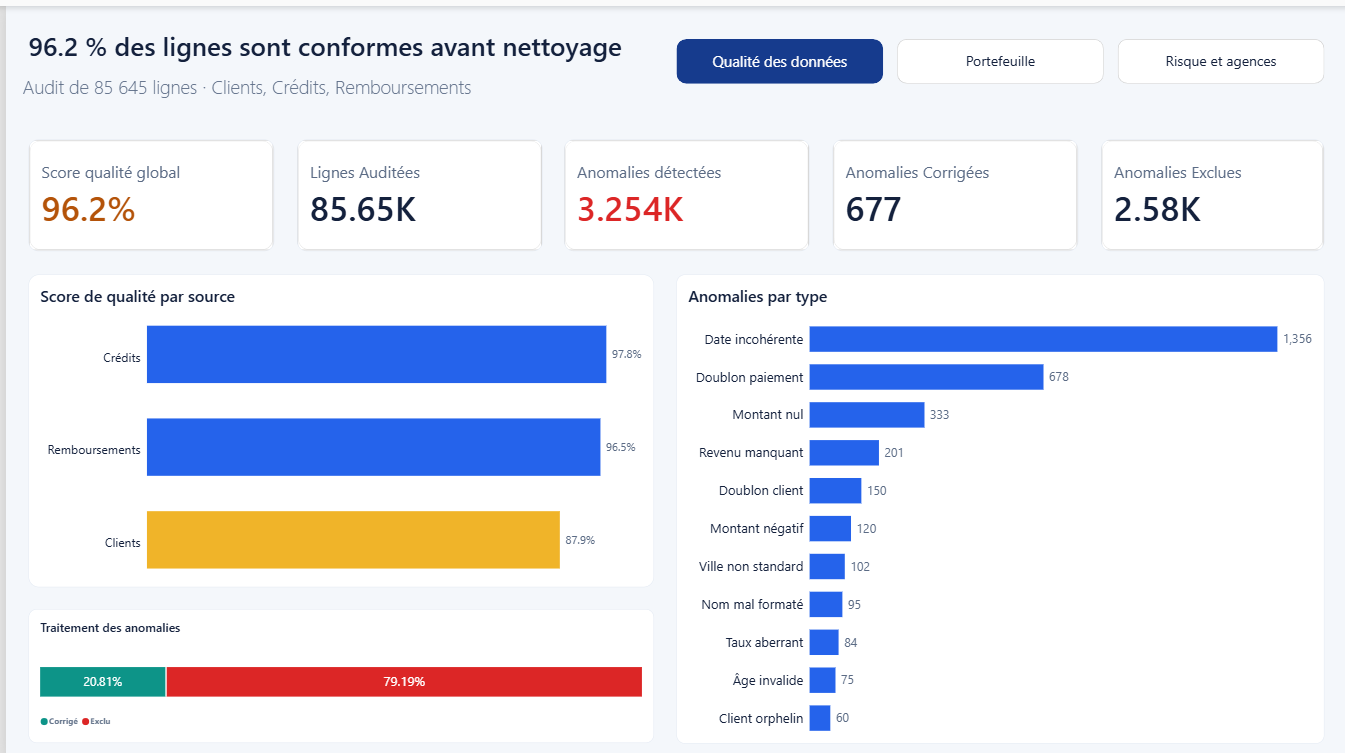

The dashboard page shown, as its layout file describes it:
{"tool":"powerbi","page":{"name":"Qualité des données","canvas":[1920,1080],"ordinal":0},"visuals":[{"type":"textbox","box":[32,32,864,64],"z":0},{"type":"textbox","box":[24,96,840,48],"z":1000},{"type":"cardVisual","fields":{"Data":["_Mesures.Score Qualité %"]},"box":[32,192,352,160],"z":2000},{"type":"cardVisual","fields":{"Data":["_Mesures.Lignes Auditées"]},"box":[416,192,352,160],"z":3000},{"type":"cardVisual","fields":{"Data":["_Mesures.Nb Anomalies"]},"box":[800,192,352,160],"z":4000},{"type":"cardVisual","fields":{"Data":["_Mesures.Anomalies Corrigées"]},"box":[1184,192,352,160],"z":5000},{"type":"cardVisual","fields":{"Data":["_Mesures.Anomalies Exclues"]},"box":[1568,192,320,160],"z":6000},{"type":"barChart","title":"Score de qualité par source","fields":{"Category":["Audit_Qualité.Source"],"Y":["_Mesures.Score Qualité %"]},"box":[32,384,896,448],"z":7000},{"type":"barChart","title":"Anomalies par type","fields":{"Category":["Audit_Qualité.Anomalie"],"Y":["_Mesures.Lignes Auditées"]},"box":[960,384,928,672],"z":8000},{"type":"hundredPercentStackedBarChart","title":"Traitement des anomalies","fields":{"Series":["Audit_Qualité.Traitement"],"Y":["_Mesures.Lignes Auditées"]},"box":[32,864,896,192],"z":9000},{"type":"pageNavigator","box":[960,48,928,64],"z":10000}]}

Visuals, with their boxes in screenshot pixels (x1, y1, x2, y2), scaled from the page's 1920x1080 canvas onto the 1345x753 screenshot:
textbox: bbox(22, 22, 628, 67)
textbox: bbox(17, 67, 605, 100)
cardVisual - _Mesures.Score Qualité %: bbox(22, 134, 269, 245)
cardVisual - _Mesures.Lignes Auditées: bbox(291, 134, 538, 245)
cardVisual - _Mesures.Nb Anomalies: bbox(560, 134, 807, 245)
cardVisual - _Mesures.Anomalies Corrigées: bbox(829, 134, 1076, 245)
cardVisual - _Mesures.Anomalies Exclues: bbox(1098, 134, 1323, 245)
"Score de qualité par source" barChart: bbox(22, 268, 650, 580)
"Anomalies par type" barChart: bbox(672, 268, 1323, 736)
"Traitement des anomalies" hundredPercentStackedBarChart: bbox(22, 602, 650, 736)
pageNavigator: bbox(672, 33, 1323, 78)
